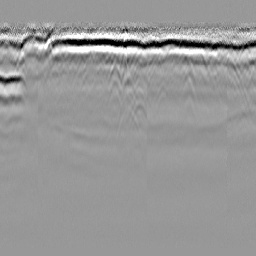cavity: (120, 70, 137, 99)
